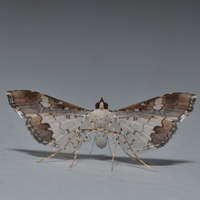insect: (6, 90, 196, 170)
